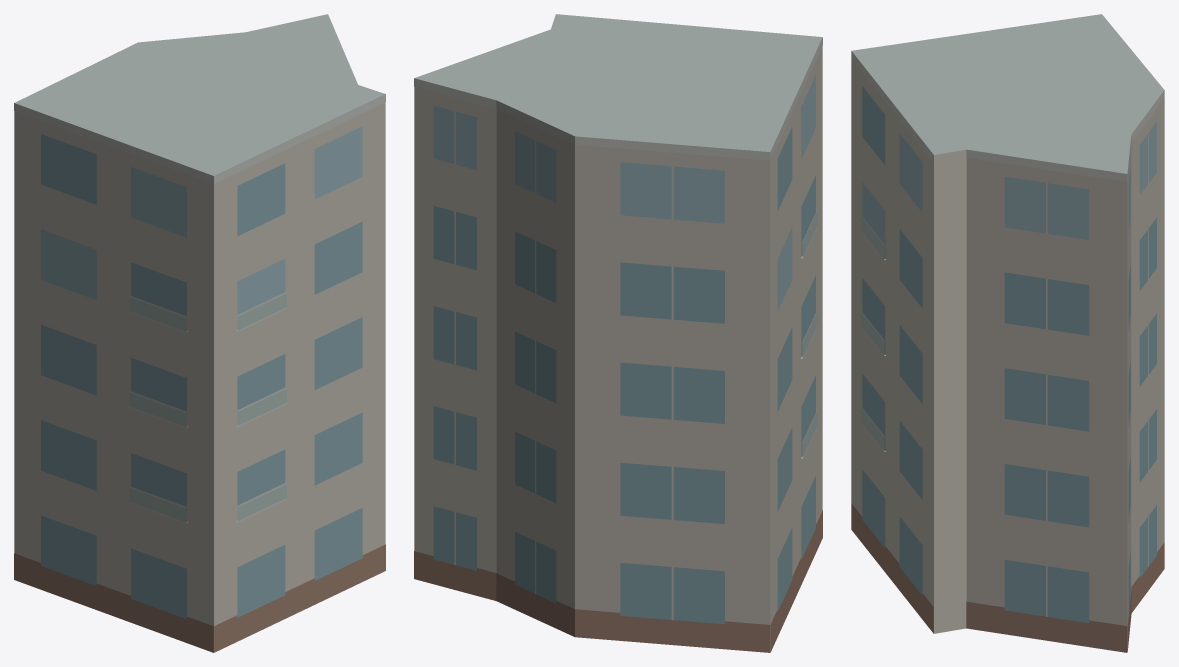
The model's file is survey-upis-32605647.glb.
3 views of the same model, side by side, from view 1: azimuth 30°, elevation 25°; view 2: azimuth 150°, elevation 25°; view 3: azimuth 270°, elevation 25° (orthographic). The views are drawn at different scales.
Parts seen in each view (by area): view 1: survey-upis-32605647.tmp; view 2: survey-upis-32605647.tmp; view 3: survey-upis-32605647.tmp.
Part boxes in pixels (<box>): survey-upis-32605647.tmp: <box>14,14,385,652</box>; survey-upis-32605647.tmp: <box>414,14,822,652</box>; survey-upis-32605647.tmp: <box>851,14,1164,652</box>.
Size of the model in its own units: 10.33 by 14.4 by 8.54.
